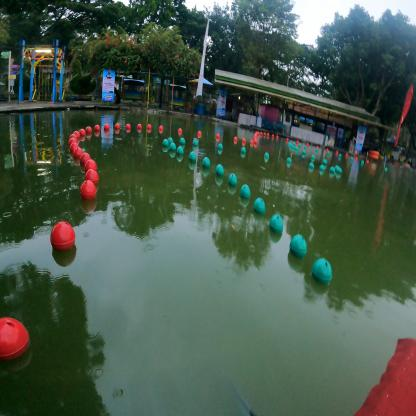green_buoy: (312, 258, 332, 286), (290, 234, 307, 258), (270, 214, 283, 234), (254, 197, 265, 215), (240, 184, 250, 200), (228, 174, 238, 187), (216, 164, 224, 177), (202, 157, 210, 169), (176, 146, 184, 156), (189, 152, 196, 162), (170, 142, 176, 152), (162, 139, 168, 148), (286, 157, 292, 164), (322, 159, 328, 166), (336, 167, 342, 174), (309, 162, 314, 170), (319, 165, 325, 171), (168, 137, 173, 144), (180, 138, 185, 145), (218, 143, 223, 150), (241, 147, 246, 154), (193, 140, 198, 146), (264, 153, 269, 159), (330, 167, 335, 173), (311, 154, 315, 160), (335, 165, 339, 171), (384, 167, 388, 172), (302, 150, 306, 154), (350, 157, 354, 161), (288, 142, 291, 146), (327, 151, 330, 155), (361, 160, 364, 164), (372, 164, 375, 168), (293, 143, 296, 146), (298, 144, 301, 147), (290, 145, 293, 148), (295, 147, 298, 150), (304, 145, 306, 149), (293, 145, 295, 149), (316, 148, 318, 152), (339, 154, 341, 158)
red_buoy: (0, 315, 30, 361), (51, 220, 75, 251), (80, 179, 96, 201), (85, 169, 99, 186), (85, 159, 97, 176), (80, 152, 90, 168), (70, 143, 79, 154), (74, 148, 83, 159), (68, 138, 76, 149), (70, 134, 77, 143), (73, 131, 80, 139), (80, 128, 86, 137), (94, 124, 100, 132), (86, 126, 92, 134), (104, 124, 110, 130), (115, 124, 120, 130), (137, 124, 142, 129), (147, 124, 152, 129), (159, 125, 163, 131), (178, 128, 182, 134), (242, 138, 246, 144), (126, 124, 130, 129), (198, 131, 202, 136), (254, 139, 258, 144), (250, 140, 254, 145), (216, 134, 220, 138), (234, 137, 237, 142), (256, 132, 259, 136), (263, 132, 266, 136), (296, 140, 299, 144), (306, 143, 309, 147), (326, 148, 329, 152), (355, 156, 358, 160), (286, 138, 289, 141), (366, 160, 369, 163), (260, 132, 262, 136), (254, 134, 256, 138), (272, 134, 274, 138), (254, 136, 256, 140), (267, 133, 269, 136), (316, 146, 318, 149), (336, 151, 338, 154), (346, 154, 348, 156), (277, 136, 278, 138)
